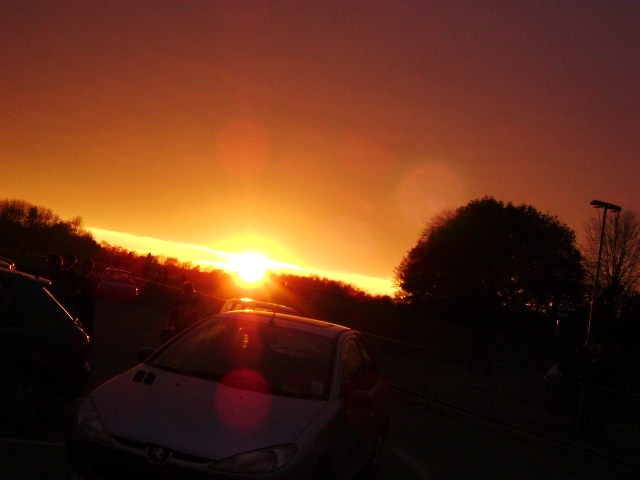car: (73, 306, 404, 476)
